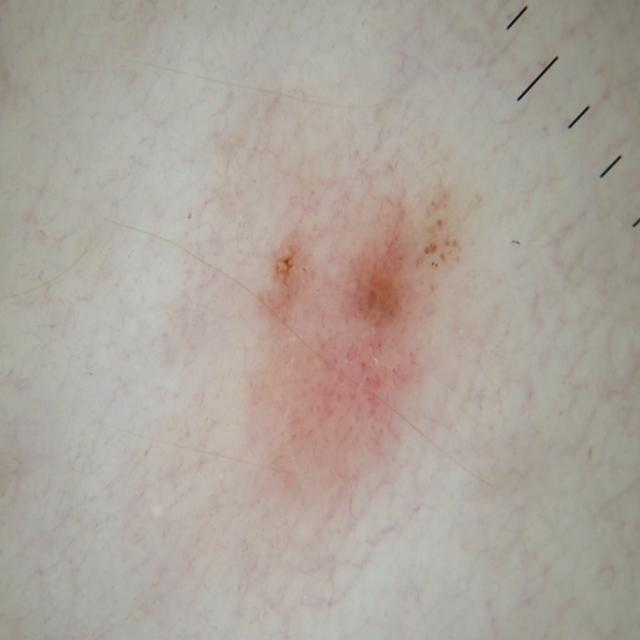Skin-Cancer Melanoma: (115, 71, 622, 570)
